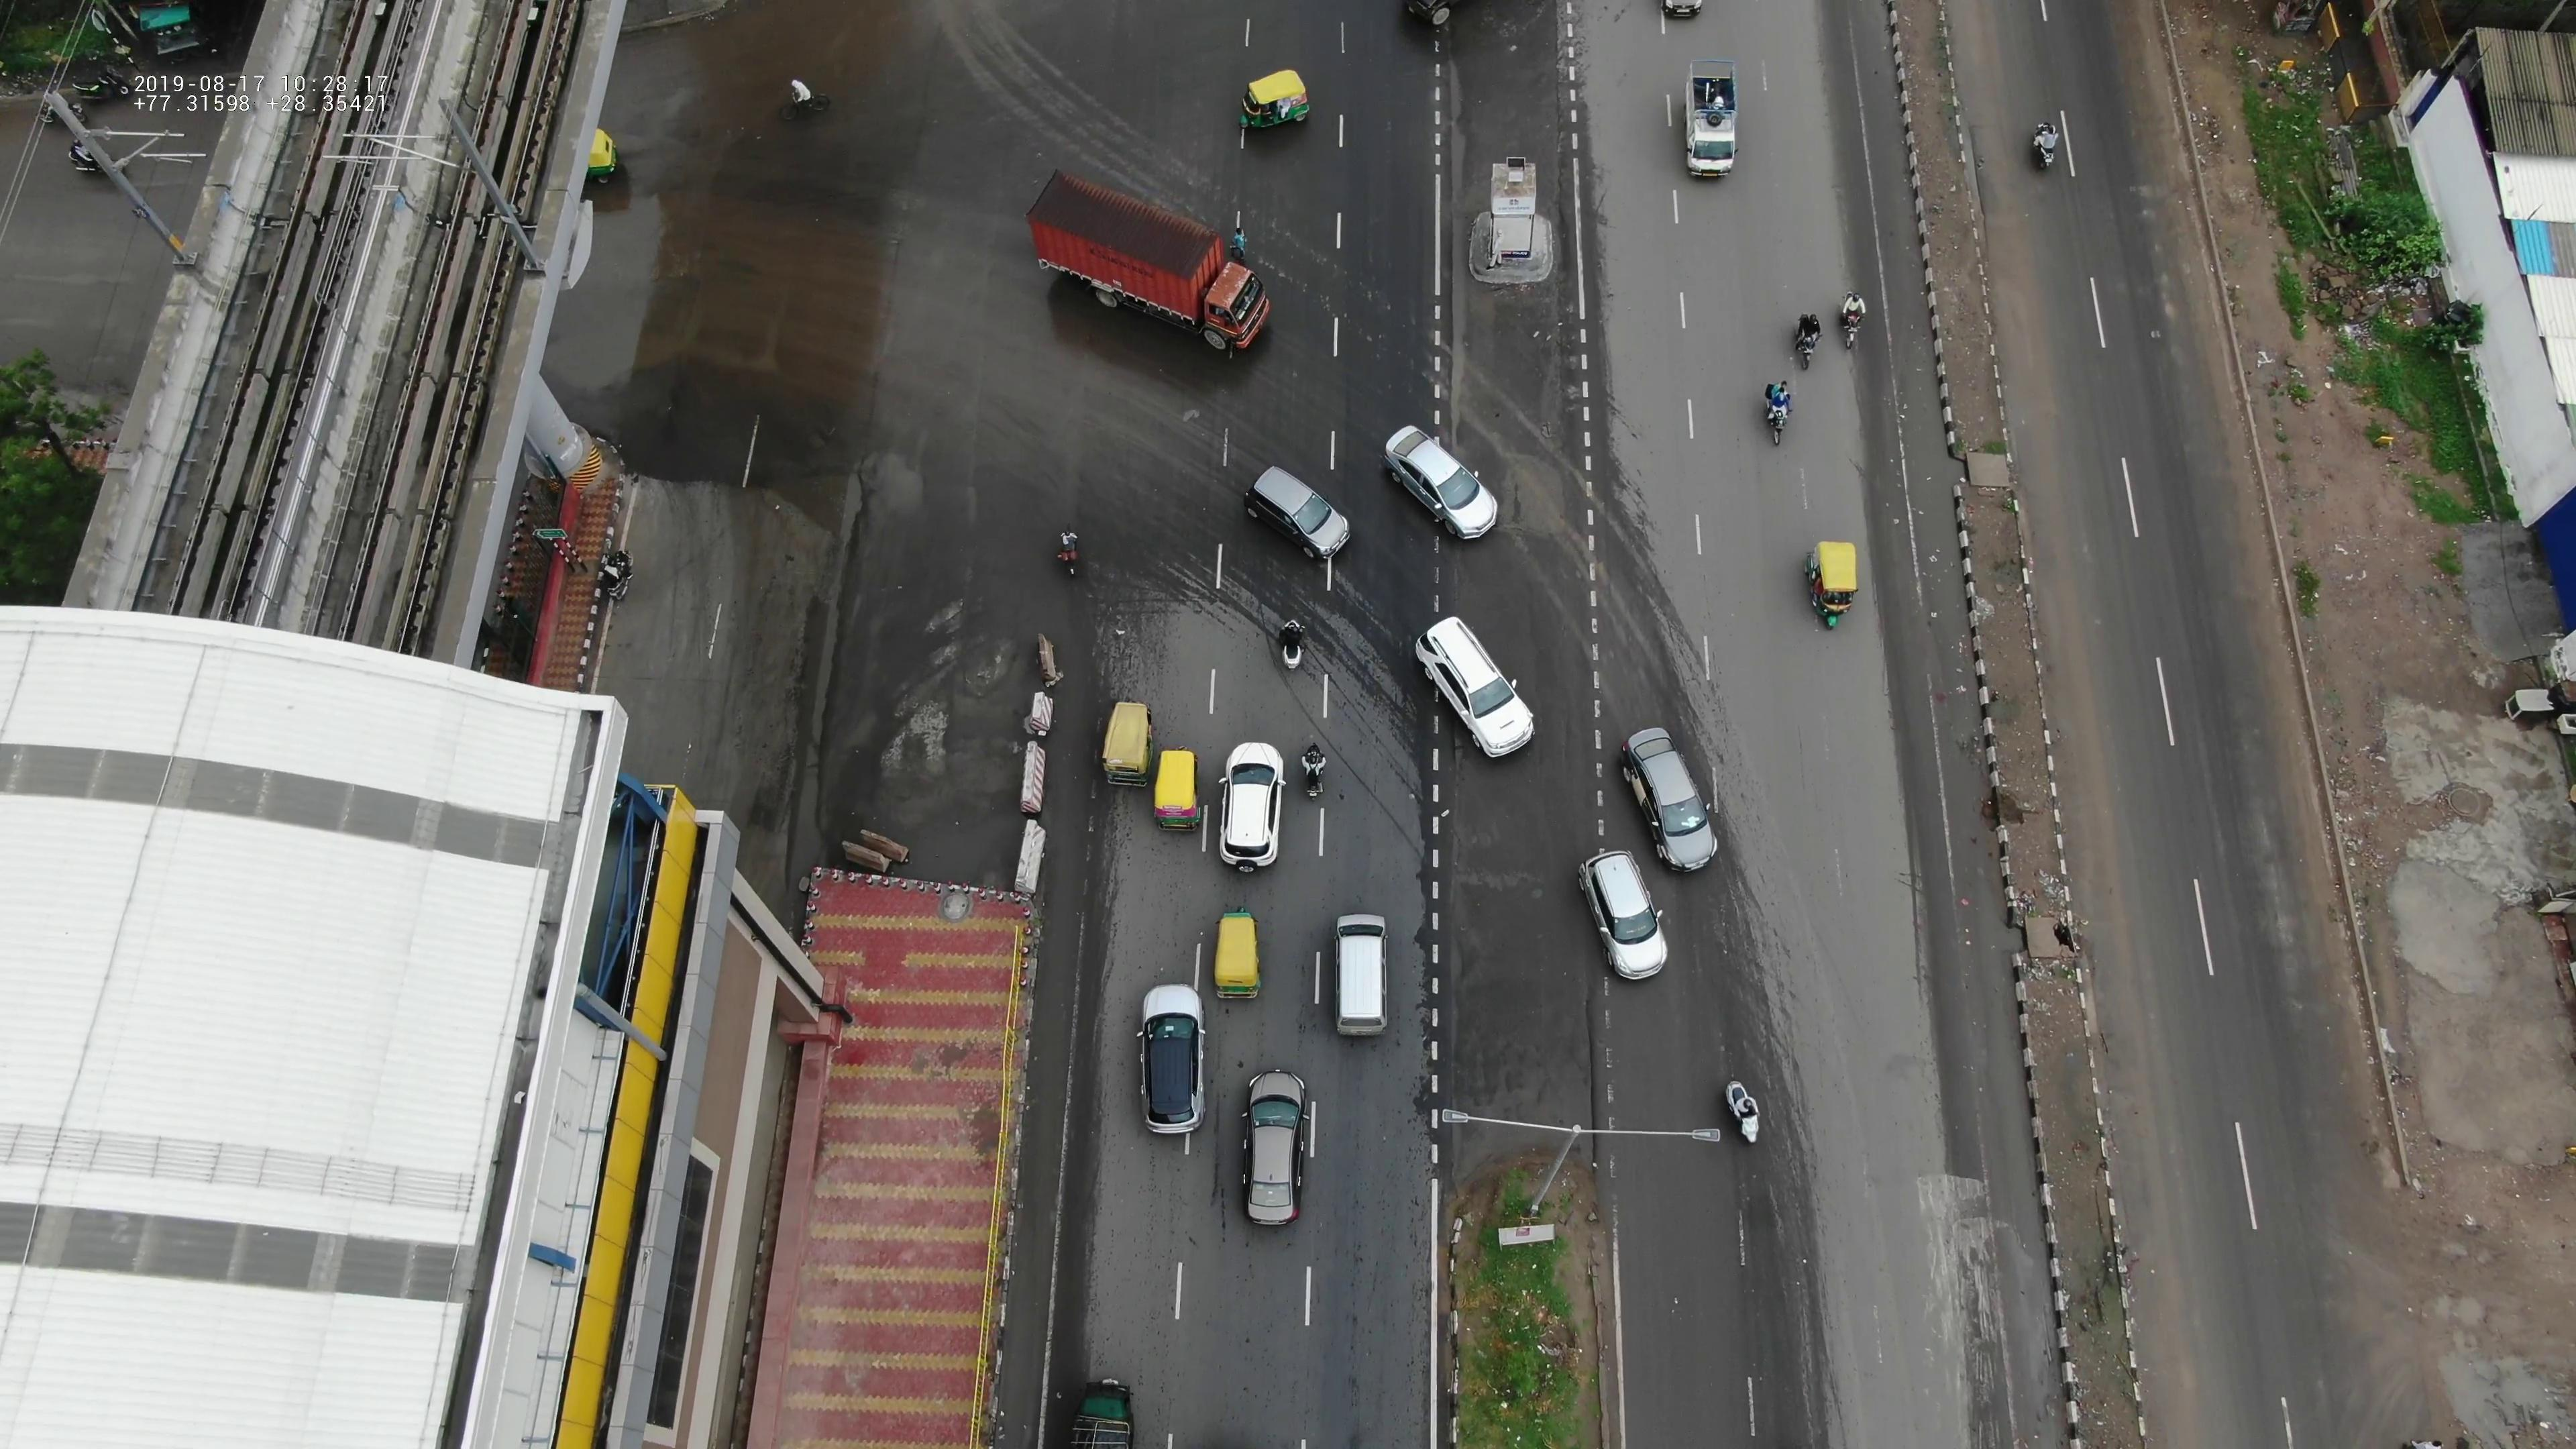Potholes: (796, 448, 955, 617), (1442, 814, 1566, 934)
